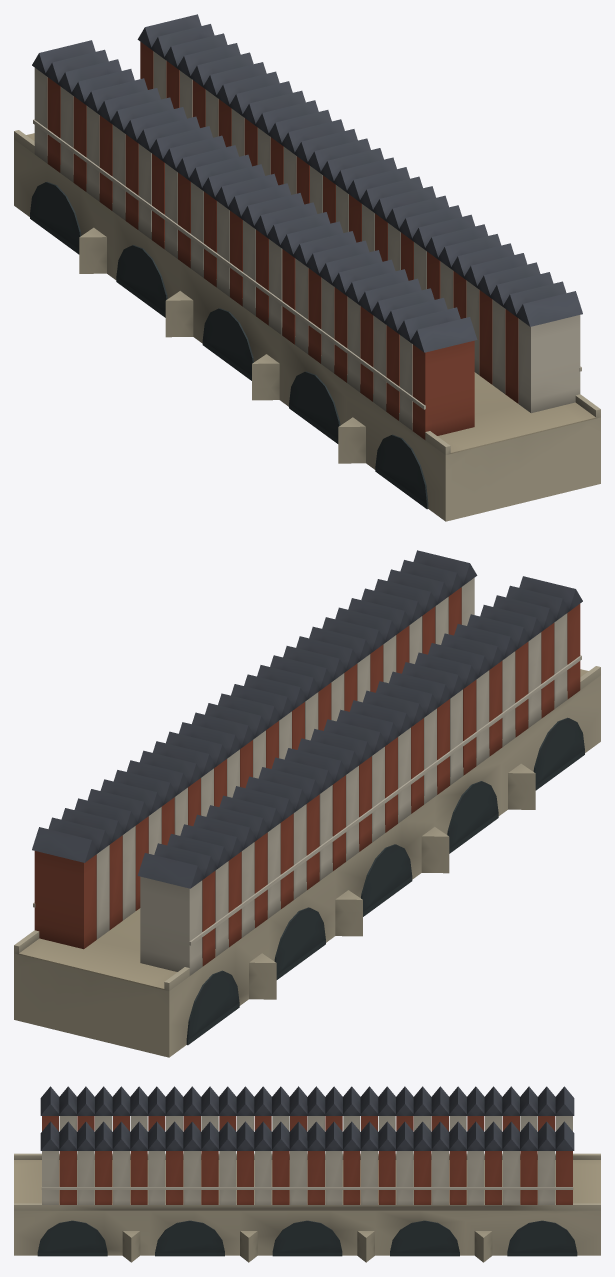
File: pont-notre-dame.glb
3 views of the same model, one above another, from view 1: azimuth 30°, elevation 25°; view 2: azimuth 150°, elevation 25°; view 3: azimuth 270°, elevation 25° (orthographic). The views are drawn at different scales.
Parts seen in each view (by area): view 1: p1_houses, p0_arches; view 2: p1_houses, p0_arches; view 3: p1_houses, p0_arches.
Part boxes in pixels (x1,y1,x2,y2): p1_houses: (32, 14, 582, 439); p0_arches: (14, 130, 600, 521); p1_houses: (32, 550, 582, 975); p0_arches: (14, 666, 600, 1057); p1_houses: (40, 1086, 574, 1204); p0_arches: (14, 1153, 600, 1262).
Bounding box in the file's own units: 28 × 23.4 × 106.
